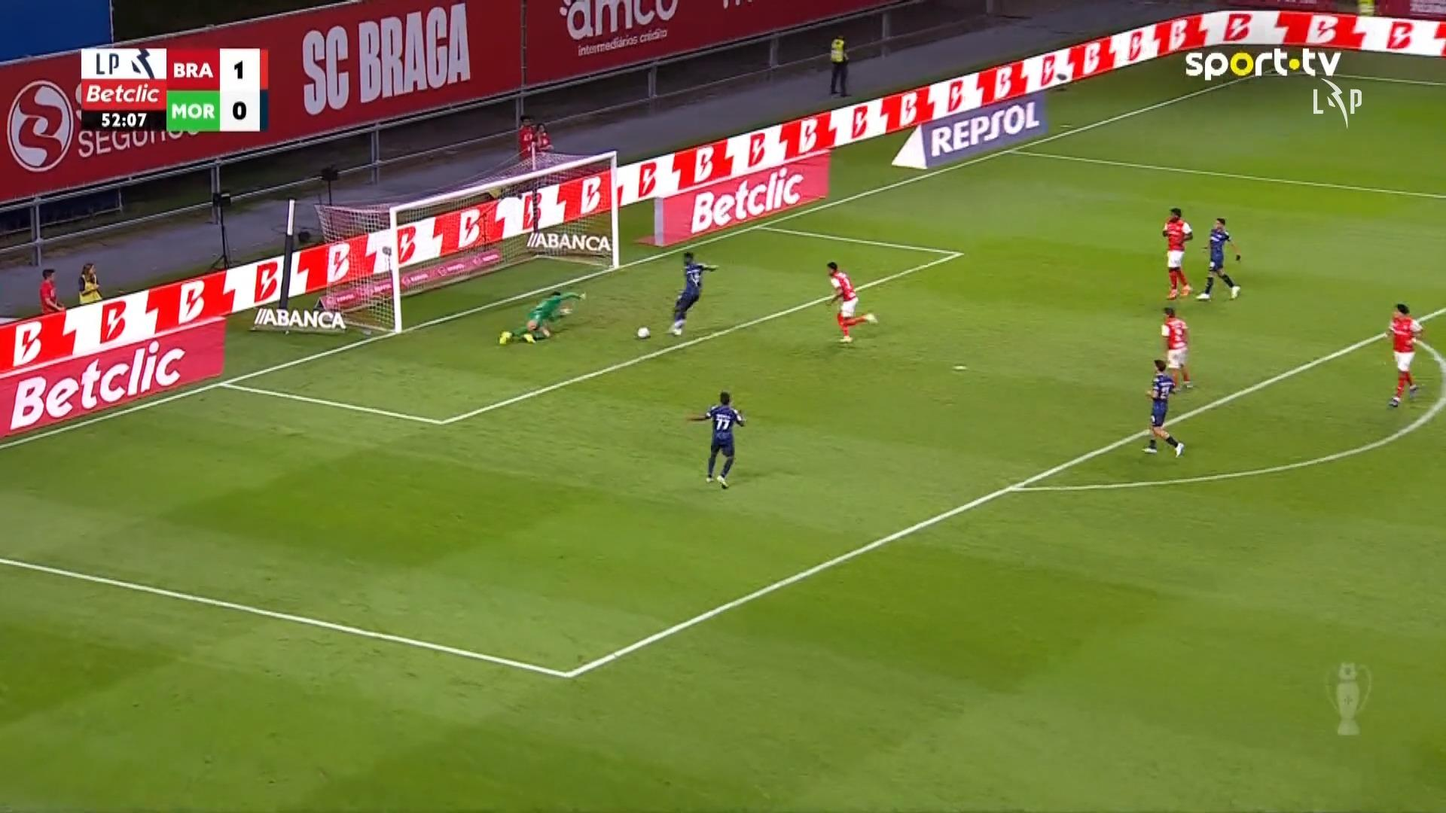ball: (636, 327, 649, 339)
goalkeeper: (497, 288, 586, 346)
player: (686, 390, 745, 489), (825, 260, 878, 343), (668, 249, 718, 336), (1142, 358, 1185, 457), (1386, 303, 1424, 407), (1195, 215, 1241, 300), (1161, 206, 1193, 300), (1160, 306, 1194, 391)
